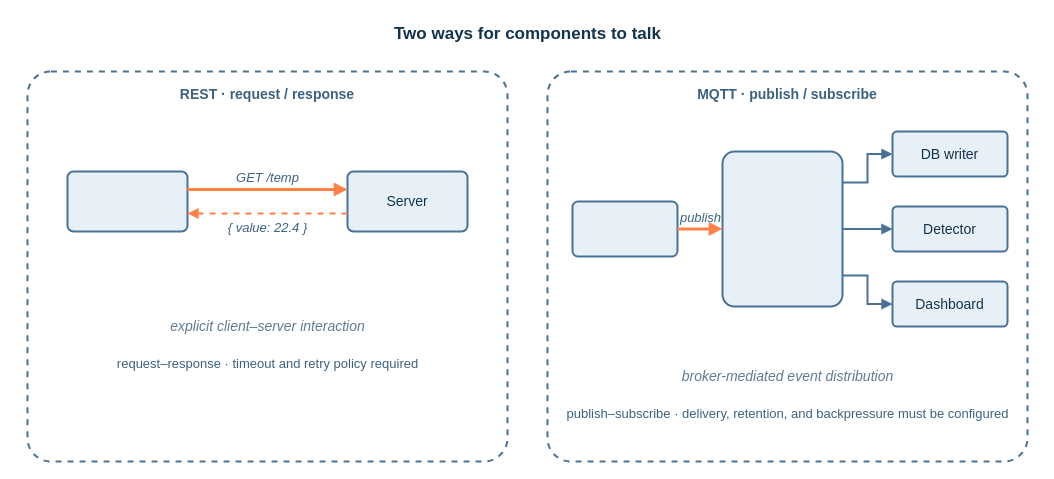
Image size: 1054x479. Some labels were removed from this diagram. Here are the shapes that lost their labels. From the top down, the centre of each, then its label:
At (x=127, y=201): "Client".
At (x=624, y=228): "Sensor".
At (x=782, y=228): "BROKER topic: sensors/#".
